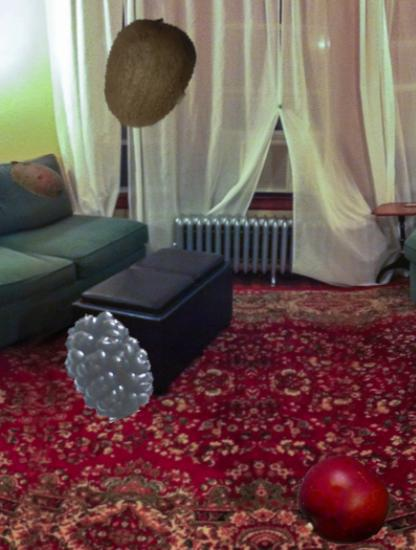Kiwi: (87, 16, 205, 134)
Mulberry: (52, 309, 164, 421)
Nectarine: (296, 456, 389, 549)
Potato: (4, 148, 68, 212)
